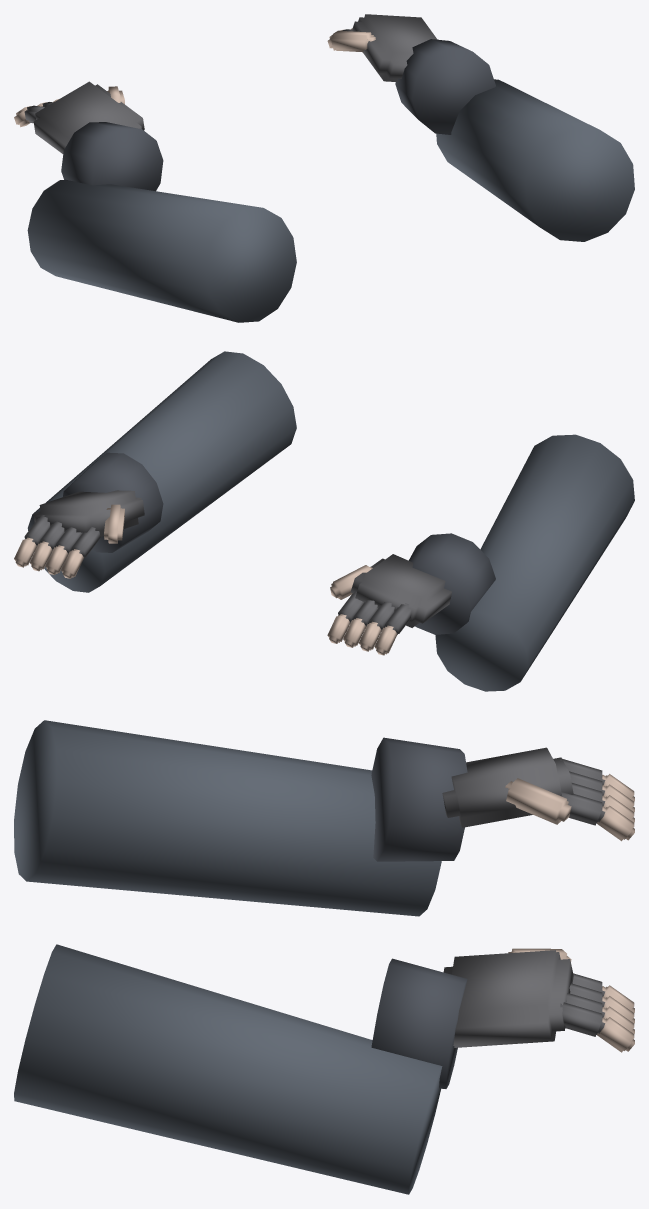
File: vm_empty_hands.glb
3 views of the same model, one above another, from view 1: azimuth 30°, elevation 25°; view 2: azimuth 150°, elevation 25°; view 3: azimuth 270°, elevation 25° (orthographic). The views are drawn at different scales.
Parts seen in each view (by area): view 1: Sleeve_L, Sleeve_R, Cuff_R, Cuff_L, PalmGlove_L, PalmGlove_R, Thumb_R; view 2: Sleeve_L, Sleeve_R, Cuff_L, PalmGlove_L, Cuff_R, PalmGlove_R, Thumb_R, Thumb_L, FingerProx_R_0; view 3: Sleeve_R, Sleeve_L, PalmGlove_R, Cuff_L, Cuff_R, PalmGlove_L, Thumb_L, FingerProx_R_3, FingerProx_L_3, FingerTip_L_3, FingerTip_R_3.
Boxes of the visible parts, x1=… form: Sleeve_L: x1=27, y1=179, x2=296, y2=322; Sleeve_R: x1=436, y1=79, x2=634, y2=241; Cuff_R: x1=395, y1=39, x2=495, y2=134; Cuff_L: x1=61, y1=122, x2=163, y2=191; PalmGlove_L: x1=33, y1=81, x2=144, y2=153; PalmGlove_R: x1=352, y1=14, x2=437, y2=81; Thumb_R: x1=330, y1=30, x2=375, y2=52; Sleeve_L: x1=435, y1=434, x2=634, y2=691; Sleeve_R: x1=27, y1=351, x2=296, y2=592; Cuff_L: x1=409, y1=533, x2=495, y2=634; PalmGlove_L: x1=350, y1=554, x2=451, y2=627; Cuff_R: x1=63, y1=452, x2=163, y2=552; PalmGlove_R: x1=33, y1=490, x2=144, y2=536; Thumb_R: x1=104, y1=504, x2=124, y2=543; Thumb_L: x1=330, y1=565, x2=372, y2=599; FingerProx_R_0: x1=71, y1=527, x2=100, y2=557; Sleeve_R: x1=14, y1=944, x2=442, y2=1194; Sleeve_L: x1=14, y1=720, x2=441, y2=916; PalmGlove_R: x1=443, y1=950, x2=573, y2=1047; Cuff_L: x1=371, y1=737, x2=467, y2=861; Cuff_R: x1=371, y1=958, x2=467, y2=1088; PalmGlove_L: x1=442, y1=747, x2=573, y2=827; Thumb_L: x1=505, y1=778, x2=571, y2=824; FingerProx_R_3: x1=560, y1=1002, x2=605, y2=1036; FingerProx_L_3: x1=561, y1=792, x2=605, y2=825; FingerTip_L_3: x1=597, y1=805, x2=634, y2=841; FingerTip_R_3: x1=597, y1=1017, x2=634, y2=1052.
Size of the model in its own units: 0.5094 by 0.148 by 0.3973.
